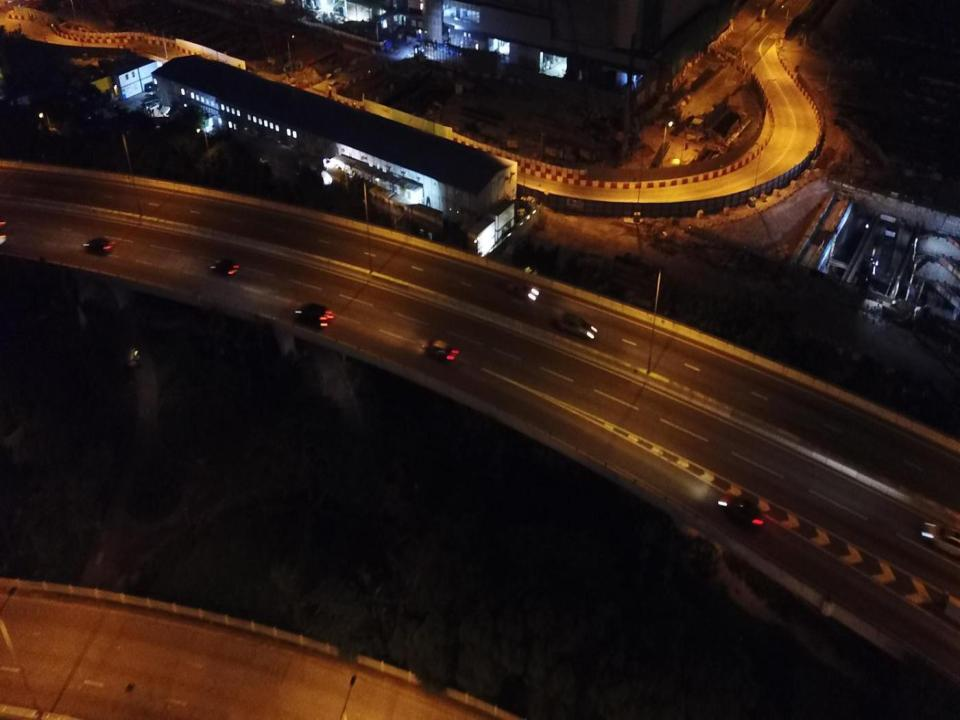car: (719, 495, 764, 528), (923, 522, 960, 560), (557, 315, 595, 339), (423, 341, 455, 361), (508, 282, 538, 300), (208, 260, 238, 277), (84, 238, 114, 253)
van: (294, 302, 330, 326)
